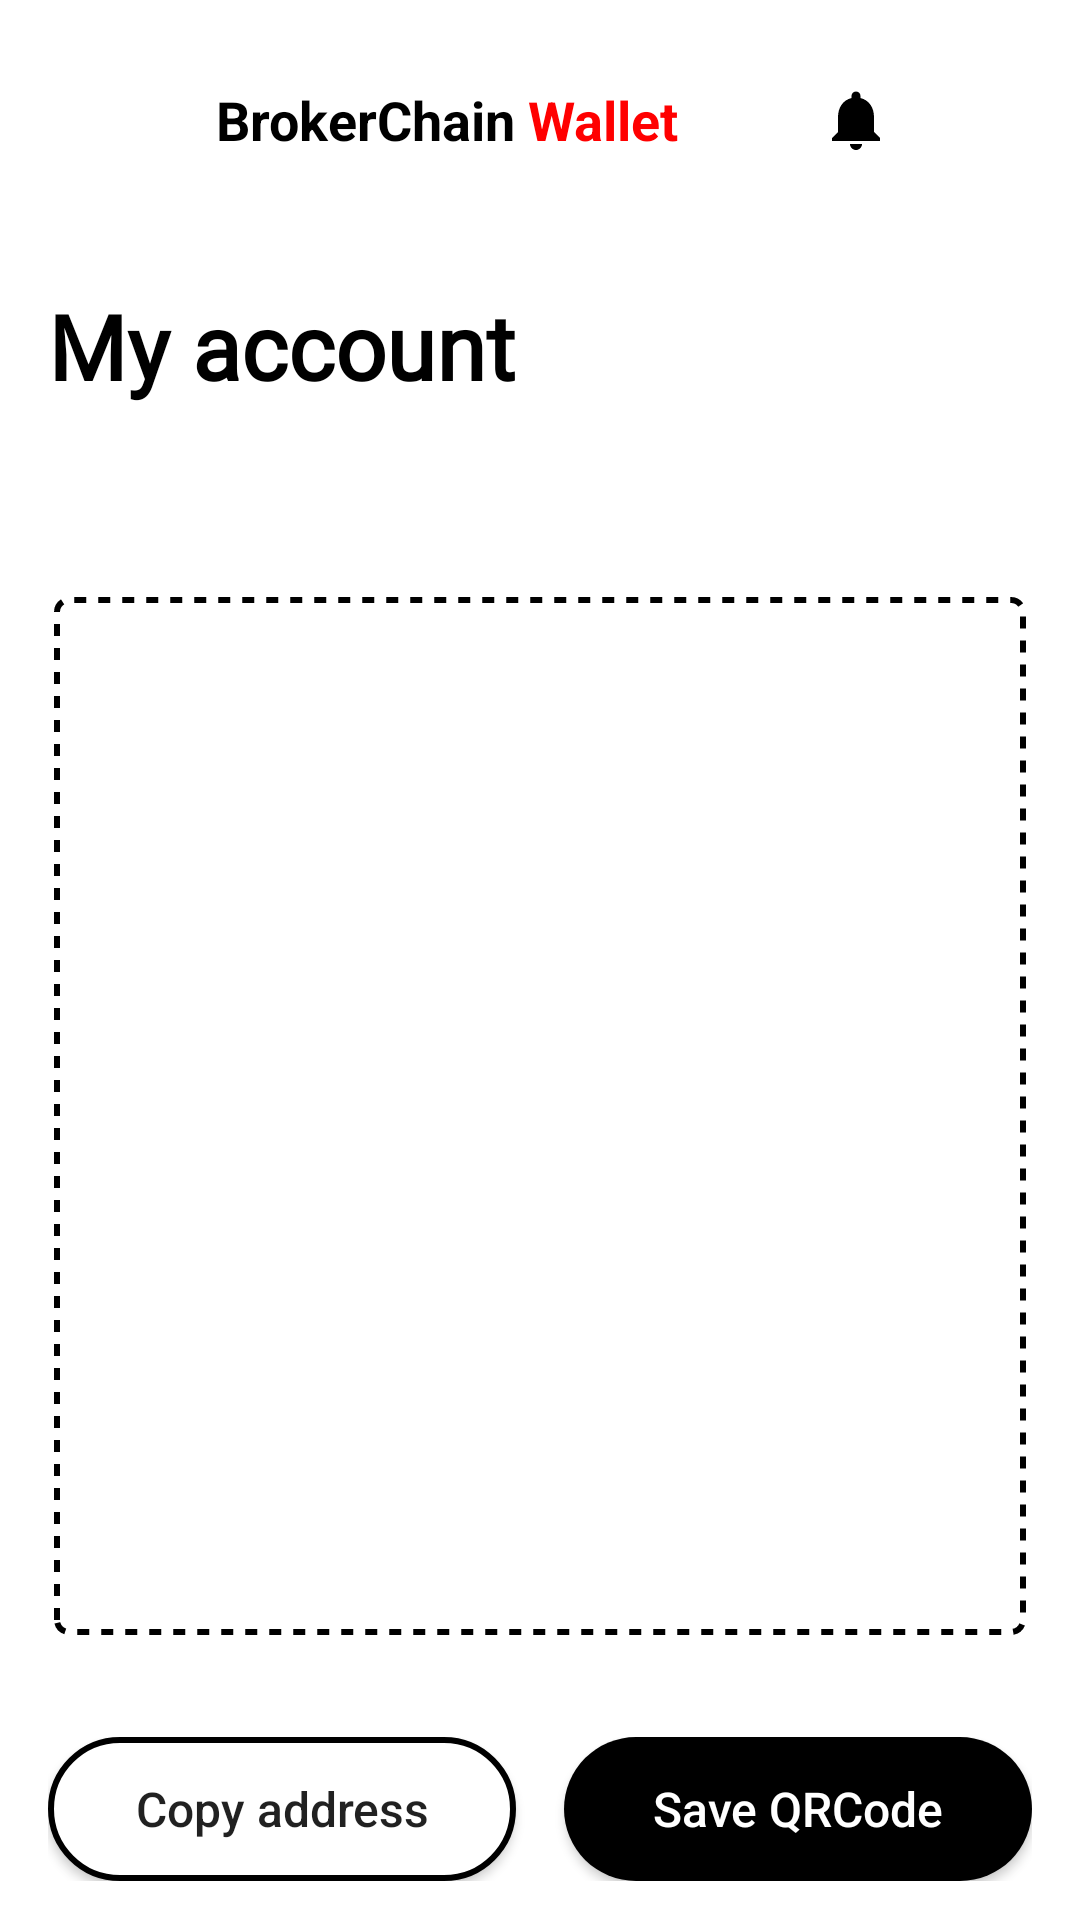

Point at icon controls on the screen. Image size 1080px×1920px, points as point (x, y).
Notifications: point (856, 120)
